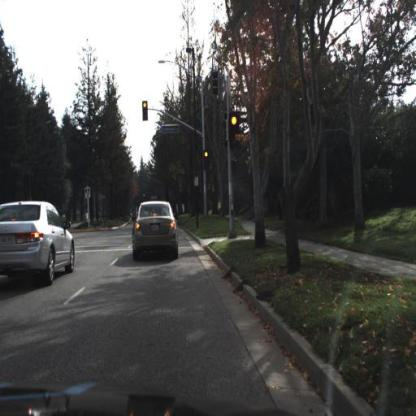car: (2, 197, 76, 291), (131, 201, 180, 265)
trafficLight-Red: (229, 113, 239, 139), (142, 99, 150, 123), (204, 148, 211, 171)
